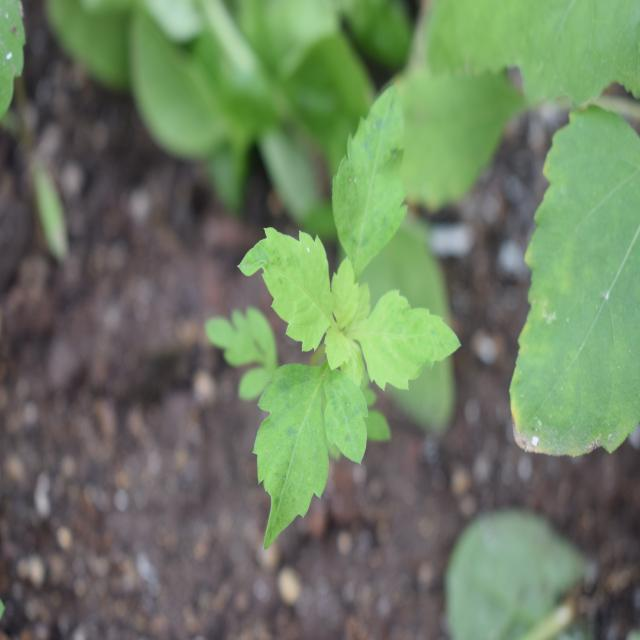Bidens pilosa: (219, 85, 478, 565)
